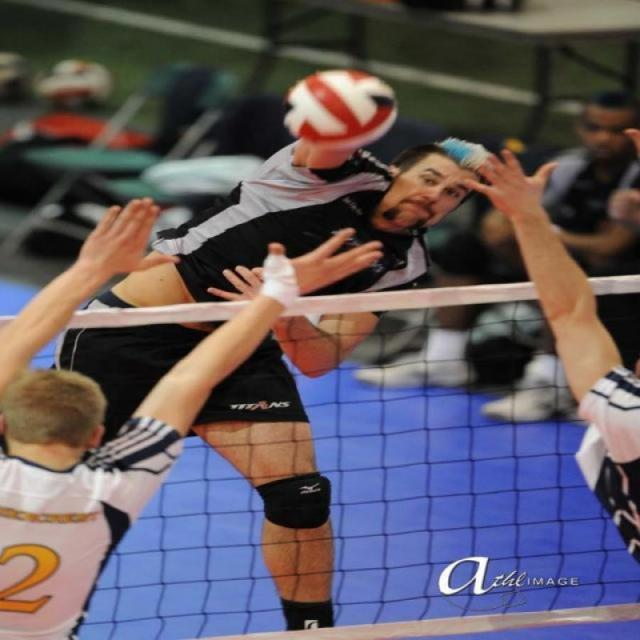volleyball: (274, 64, 402, 150)
